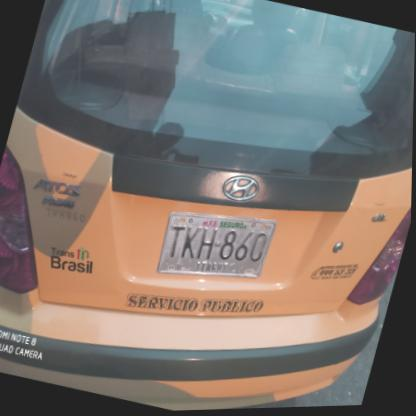placa: (150, 195, 288, 302)
